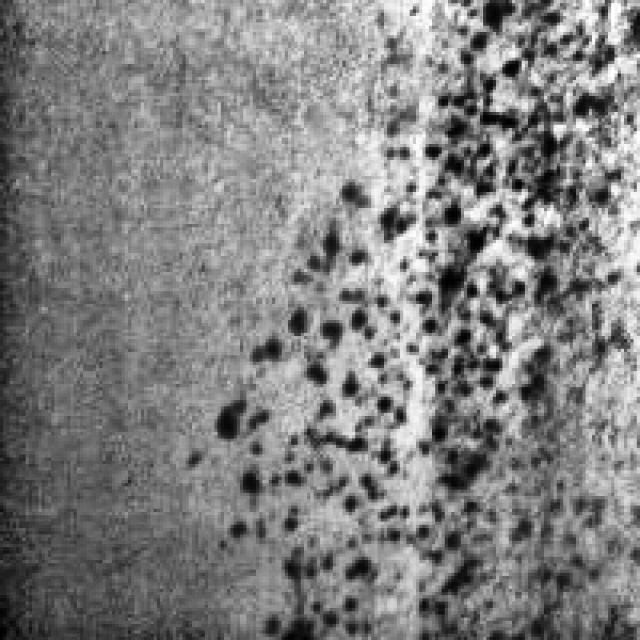Rolled_in_Scale: (211, 0, 602, 621)
